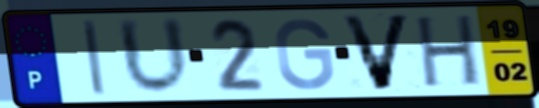2: (208, 17, 267, 93)
G: (272, 16, 337, 92)
H: (415, 12, 482, 91)
I: (79, 18, 109, 99)
U: (113, 15, 194, 98)
V: (337, 12, 415, 93)
